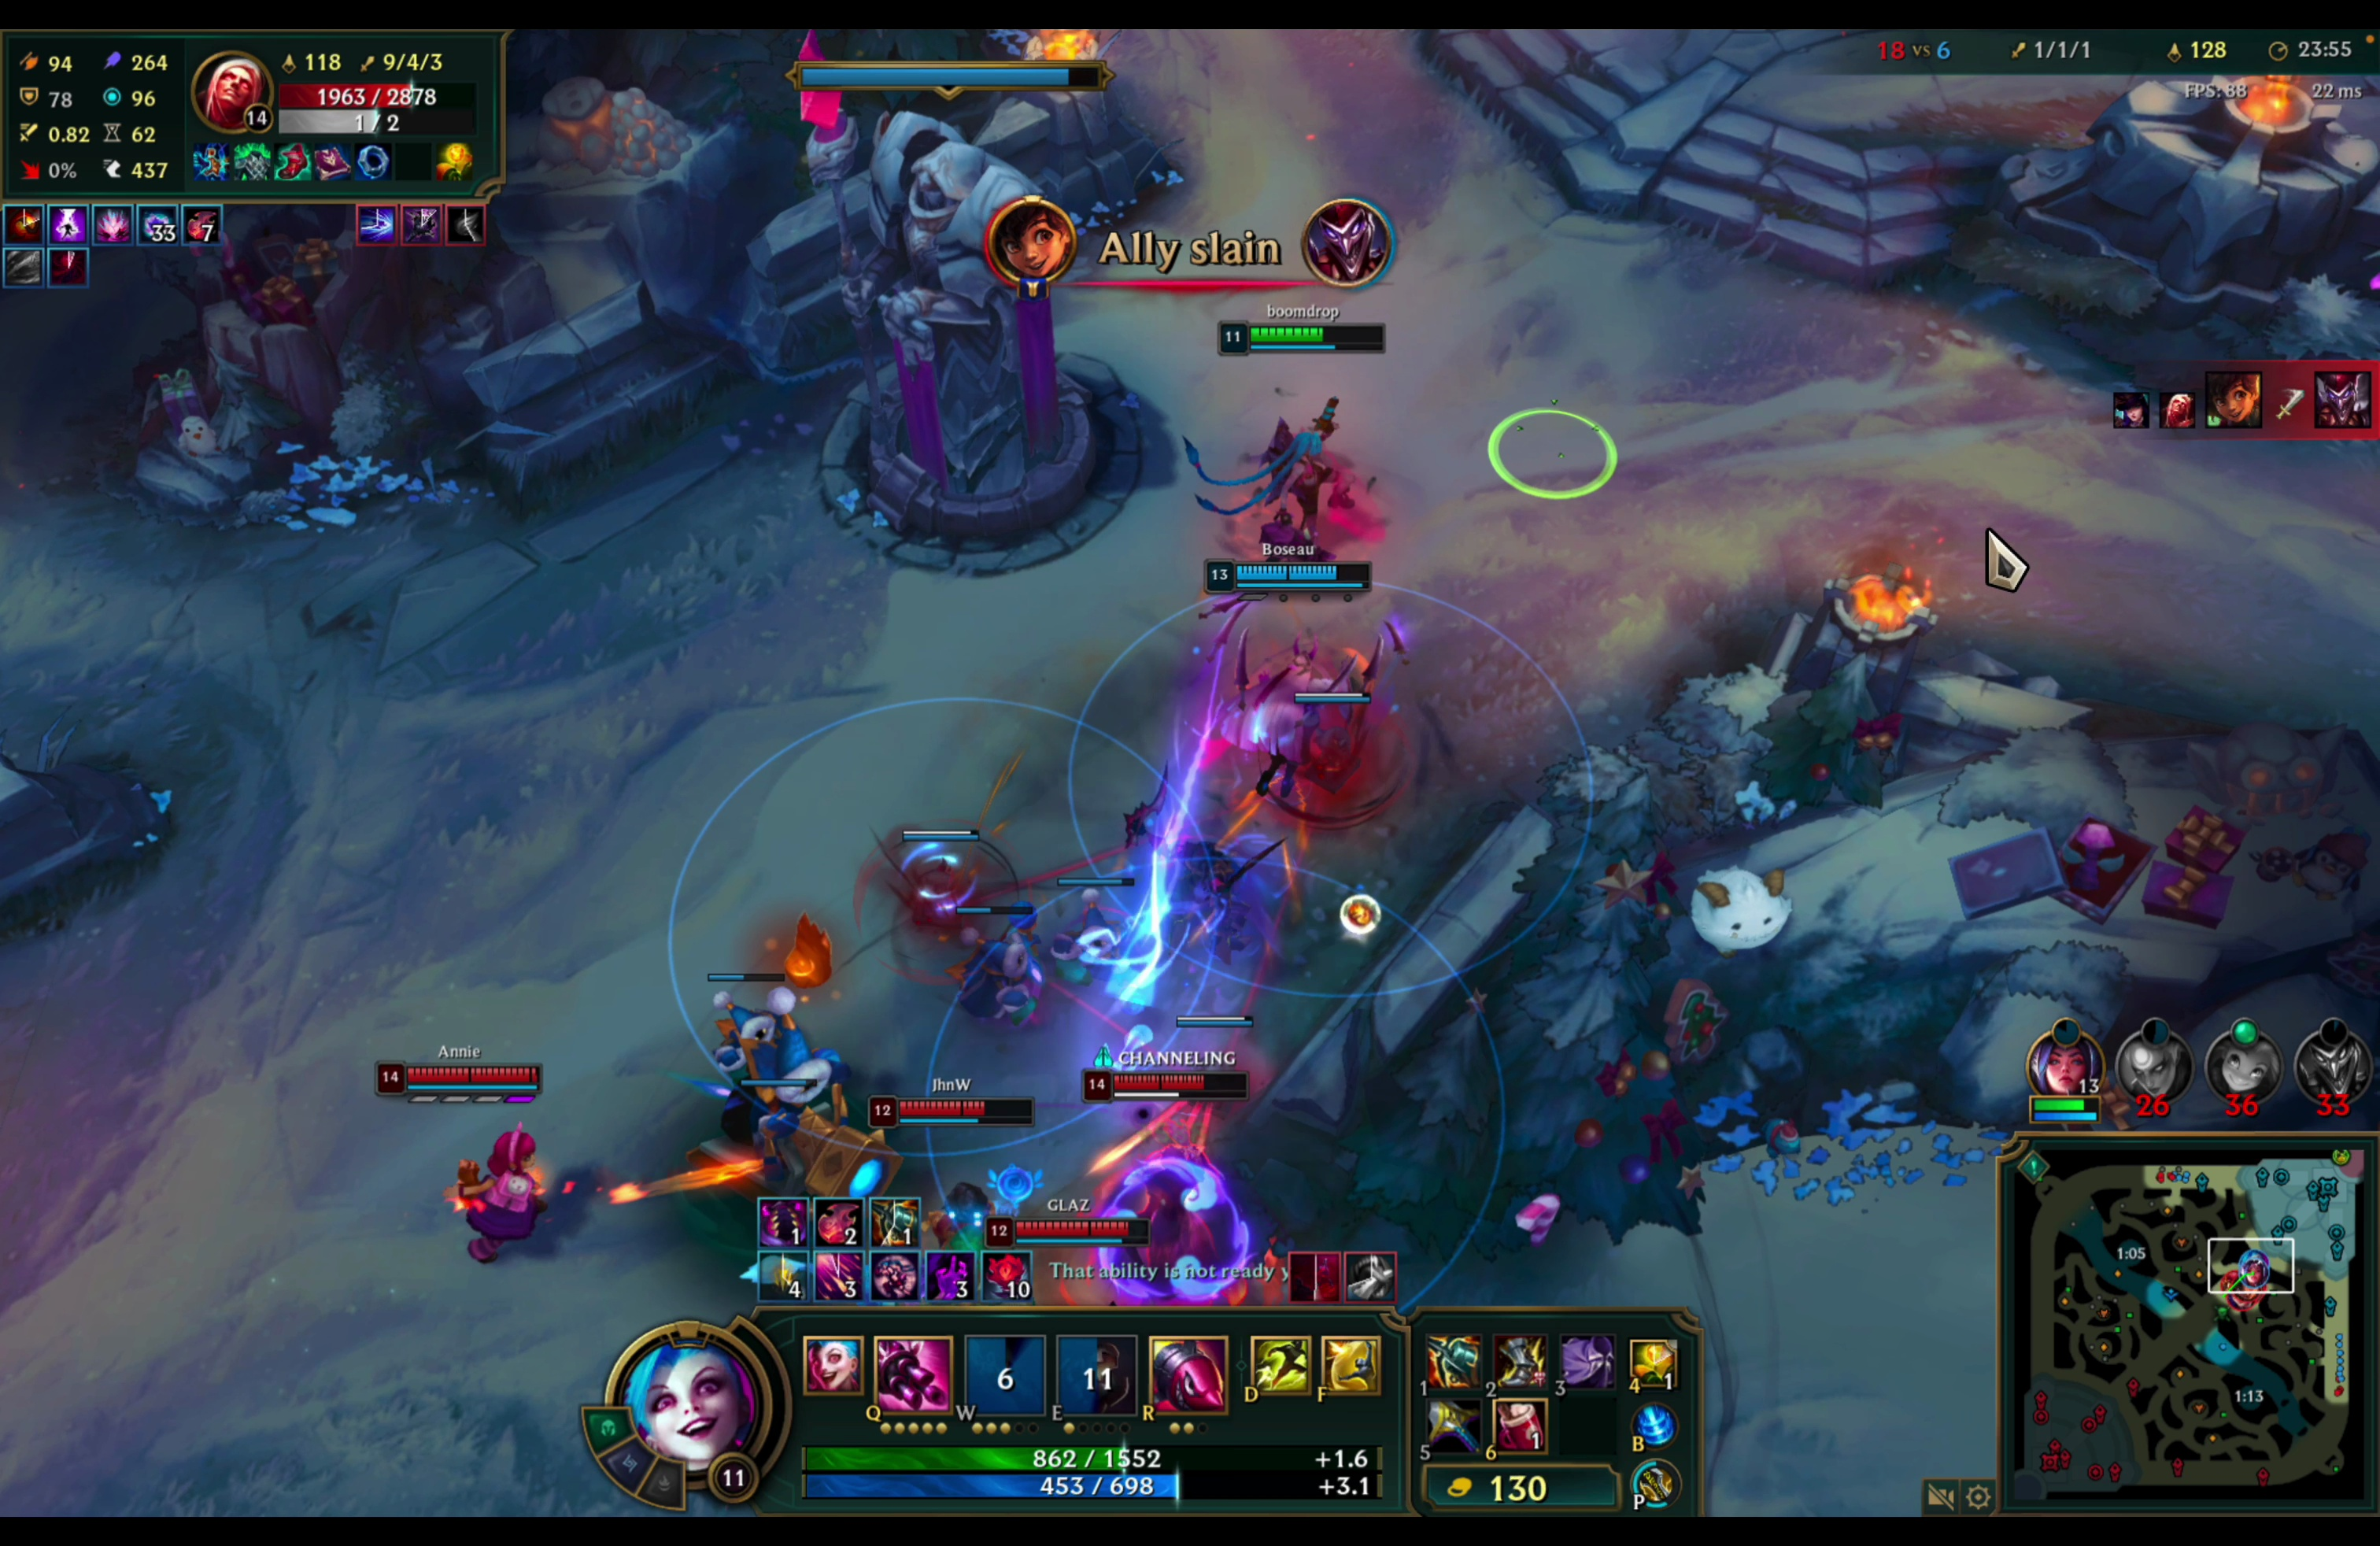JINX_W_PROJECTILE: (1088, 297, 1429, 1039)
